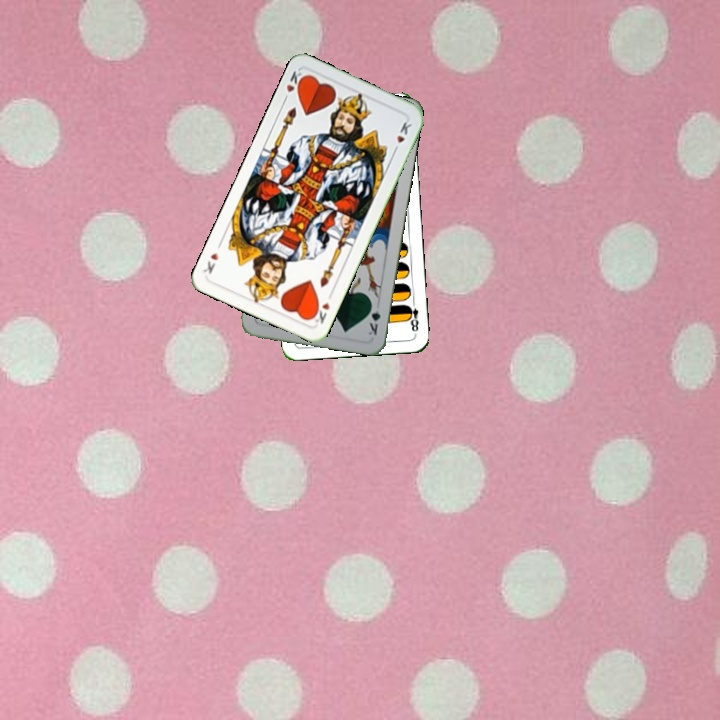E8: (403, 296, 421, 334)
GK: (365, 298, 383, 338)
HK: (279, 66, 308, 105), (308, 298, 332, 326)
